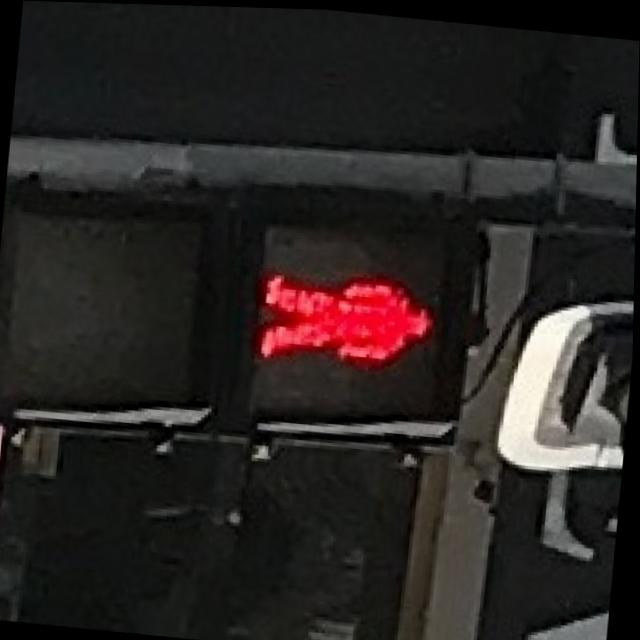red_light: (239, 207, 470, 407)
